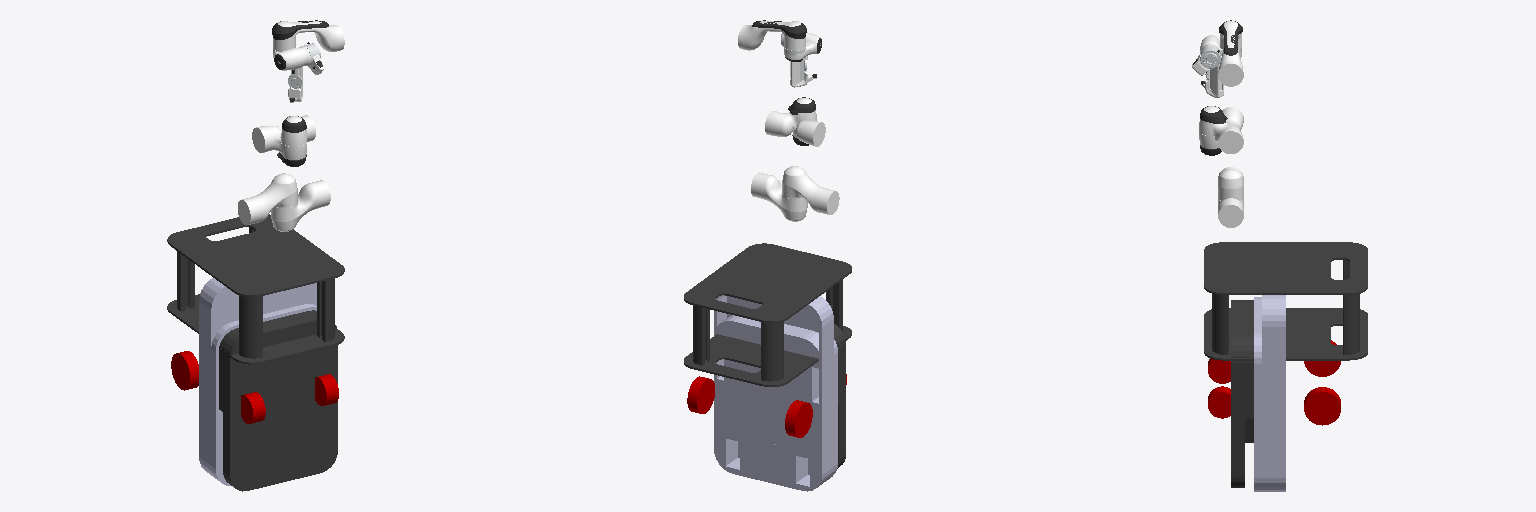
URDF robot description (albert):
<?xml version="1.0" encoding="utf-8"?>
<!-- =================================================================================== -->
<!-- |    This document was autogenerated by xacro from mmrobot.urdf.xacro             | -->
<!-- |    EDITING THIS FILE BY HAND IS NOT RECOMMENDED                                 | -->
<!-- =================================================================================== -->
<robot name="albert">
  <material name="Boxer_Black">
    <color rgba="0.1 0.1 0.1 1.0"/>
  </material>
  <material name="Boxer_Blue">
    <color rgba="0.0 0.0 0.8 1.0"/>
  </material>
  <material name="Boxer_Purple">
    <color rgba="0.6 0.0 0.6 1.0"/>
  </material>
  <material name="Boxer_Green">
    <color rgba="0.0 0.8 0.0 1.0"/>
  </material>
  <material name="Boxer_LimeGreen">
    <color rgba="0.3 0.8 0.3 1.0"/>
  </material>
  <material name="Boxer_Grey">
    <color rgba="0.5 0.5 0.5 1.0"/>
  </material>
  <material name="Boxer_DarkGrey">
    <color rgba="0.3 0.3 0.3 1.0"/>
  </material>
  <material name="Boxer_Red">
    <color rgba="0.8 0.0 0.0 1.0"/>
  </material>
  <material name="Boxer_Pink">
    <color rgba="0.8 0.4 0.8 1.0"/>
  </material>
  <material name="Boxer_White">
    <color rgba="1.0 1.0 1.0 1.0"/>
  </material>
  <material name="Boxer_Yellow">
    <color rgba="0.8 0.8 0.0 1.0"/>
  </material>
  <material name="Boxer_GreyTransparent">
    <color rgba="0.5 0.5 0.5 0.5"/>
  </material>
  <link name="base_link">
    <inertial>
      <origin rpy="0 0 0" xyz="0 0 0"/>
      <mass value="1"/>
      <inertia ixx="0.2" ixy="0" ixz="0" iyy="0.2" iyz="0" izz="0.2"/>
    </inertial>
  </link>
  <link name="chassis_link">
    <inertial>
      <origin rpy="0 0 0" xyz="0 0 0.07"/>
      <mass value="150"/>
      <inertia ixx="2.3" ixy="0" ixz="0" iyy="3.35" iyz="0.00" izz="1.22"/>
    </inertial>
    <visual>
      <origin rpy="1.5708 0 0" xyz="0 0 0"/>
      <geometry>
        <mesh filename="meshes/visual/chassis_link.dae"/>
      </geometry>
      <material name="">
        <color rgba="0.8 0.8 0.9 1"/>
      </material>
    </visual>
    <collision>
      <origin rpy="0 0 0" xyz="0 0 0"/>
      <geometry>
        <mesh filename="meshes/collision/chassis_link.STL"/>
      </geometry>
    </collision>
  </link>
  <link name="internal_link">
    <inertial>
      <origin rpy="0 0 0" xyz="0 0.19 -0.031"/>
      <mass value="20"/>
      <inertia ixx="1.19" ixy="0" ixz="0" iyy="1.82" iyz="0.0" izz="0.68"/>
    </inertial>
    <visual>
      <origin rpy="1.5708 0 0" xyz="0 0 0"/>
      <geometry>
        <mesh filename="meshes/visual/internal_link.dae"/>
      </geometry>
      <material name="Boxer_DarkGrey"/>
    </visual>
    <collision>
      <origin rpy="0 0 0" xyz="0 0 0"/>
      <geometry>
        <!-- Mesh is scaled down slightly in length, to mitigate collision with laser rays due to slow physics updates  -->
        <!-- (The z axis is scaled since the whole model is rotated at the joint, and collision model resolution isn't
      very smart.) -->
        <mesh filename="meshes/collision/internal_link.STL"/>
      </geometry>
    </collision>
  </link>
  <link name="lift_link">
    <inertial>
      <origin rpy="0 0 0" xyz="0 0.076 0"/>
      <mass value="10"/>
      <inertia ixx="0.47" ixy="0" ixz="0" iyy="0.74" iyz="0" izz="0.29"/>
    </inertial>
    <visual>
      <origin rpy="1.5708 0 0" xyz="0 0 0"/>
      <geometry>
        <mesh filename="meshes/visual/lift_link.dae"/>
      </geometry>
      <material name="">
        <color rgba="0.8 0.8 0.9 1"/>
      </material>
    </visual>
    <collision>
      <origin rpy="0 0 0" xyz="0 0 0"/>
      <geometry>
        <mesh filename="meshes/collision/lift_link.STL"/>
      </geometry>
    </collision>
  </link>
  <link name="rotacastor_right_link">
    <inertial>
      <origin rpy="0 0 0" xyz="0 0 0"/>
      <mass value="0.3"/>
      <inertia ixx="0.2" ixy="0" ixz="0" iyy="0.2" iyz="0" izz="0.2"/>
    </inertial>
    <visual>
      <origin rpy="0 1.5708 0" xyz="0 0 0"/>
      <geometry>
        <cylinder length="0.06" radius="0.0625"/>
      </geometry>
      <material name="Boxer_Red"/>
    </visual>
    <collision>
      <origin rpy="0 1.5708 0" xyz="0 0 0"/>
      <geometry>
        <cylinder length="0.001" radius="0.0625"/>
      </geometry>
    </collision>
  </link>
  <link name="rotacastor_left_link">
    <inertial>
      <origin rpy="0 0 0" xyz="0 0 0"/>
      <mass value="0.3"/>
      <inertia ixx="0.2" ixy="0" ixz="0" iyy="0.2" iyz="0" izz="0.2"/>
    </inertial>
    <visual>
      <origin rpy="0 1.5708 0" xyz="0 0 0"/>
      <geometry>
        <cylinder length="0.06" radius="0.0625"/>
      </geometry>
      <material name="Boxer_Red"/>
    </visual>
    <collision>
      <origin rpy="0 1.5708 0" xyz="0 0 0"/>
      <geometry>
        <cylinder length="0.001" radius="0.0625"/>
      </geometry>
    </collision>
  </link>
  <link name="wheel_right_link">
    <inertial>
      <origin rpy="0 0 0" xyz="0 0 0"/>
      <mass value="1"/>
      <inertia ixx="0.2" ixy="0" ixz="0" iyy="0.2" iyz="0" izz="0.2"/>
    </inertial>
    <visual>
      <origin rpy="0 1.5708 0" xyz="0 0 0"/>
      <geometry>
        <cylinder length="0.05" radius="0.080"/>
      </geometry>
      <material name="Boxer_Red"/>
    </visual>
    <collision>
      <origin rpy="0 1.5708 0" xyz="0 0 0"/>
      <geometry>
        <cylinder length="0.001" radius="0.080"/>
      </geometry>
    </collision>
  </link>
  <link name="wheel_left_link">
    <inertial>
      <origin rpy="0 0 0" xyz="0 0 0"/>
      <mass value="1"/>
      <inertia ixx="0.2" ixy="0" ixz="0" iyy="0.2" iyz="0" izz="0.2"/>
    </inertial>
    <visual>
      <origin rpy="0 1.5708 0" xyz="0 0 0"/>
      <geometry>
        <cylinder length="0.05" radius="0.080"/>
      </geometry>
      <material name="Boxer_Red"/>
    </visual>
    <collision>
      <origin rpy="0 1.5708 0" xyz="0 0 0"/>
      <geometry>
        <cylinder length="0.001" radius="0.080"/>
      </geometry>
    </collision>
  </link>
  <joint name="internal_joint" type="fixed">
    <origin rpy="1.5708 0 0" xyz="0 0 0"/>
    <parent link="chassis_link"/>
    <child link="internal_link"/>
    <axis xyz="0 0 0"/>
  </joint>
  <joint name="lift_joint" type="fixed">
    <origin rpy="1.5708 0 0" xyz="0 0 0.177"/>
    <parent link="chassis_link"/>
    <child link="lift_link"/>
    <axis xyz="0 1 0"/>
    <limit effort="10000.0" lower="0" upper="0.078" velocity="0.02"/>
    <dynamics damping="100.0" friction="100"/>
  </joint>
  <joint name="base_chassis_joint" type="fixed">
    <origin rpy="0 0 0" xyz="0.0 0 0"/>
    <parent link="base_link"/>
    <child link="chassis_link"/>
  </joint>
  <joint name="rotacastor_right_joint" type="fixed">
    <origin rpy="0 0 0" xyz="-0.177 -0.274 0.043"/>
    <parent link="chassis_link"/>
    <child link="rotacastor_right_link"/>
    <axis xyz="1 0 0"/>
    <dynamics damping="1.0"/>
  </joint>
  <joint name="rotacastor_left_joint" type="fixed">
    <origin rpy="0 0 0" xyz="0.177 -0.274 0.043"/>
    <parent link="chassis_link"/>
    <child link="rotacastor_left_link"/>
    <axis xyz="1 0 0"/>
    <dynamics damping="1.0"/>
  </joint>
  <joint name="wheel_right_joint" type="continuous">
    <origin rpy="0 0 0" xyz="-0.247 0.157 0.058"/>
    <parent link="chassis_link"/>
    <child link="wheel_right_link"/>
    <axis xyz="1 0 0"/>
    <limit effort="10000" velocity="1000"/>
    <dynamics damping="1.0"/>
  </joint>
  <joint name="wheel_left_joint" type="continuous">
    <origin rpy="0 0 0" xyz="0.247 0.157 0.058"/>
    <parent link="chassis_link"/>
    <child link="wheel_left_link"/>
    <axis xyz="1 0 0"/>
    <limit effort="10000" velocity="1000"/>
    <dynamics damping="1.0"/>
  </joint>
  <link name="top_mount_bottom">
    <inertial>
      <origin rpy="0 0 0" xyz="0 0 0"/>
      <mass value="8"/>
      <inertia ixx="0.50" ixy="0" ixz="0" iyy="0.50" iyz="0" izz="1.00"/>
    </inertial>
    <visual>
      <origin rpy="0 0 0" xyz="0 0 0"/>
      <geometry>
        <mesh filename="meshes/collision/top_plate.stl"/>
      </geometry>
      <material name="Boxer_DarkGrey"/>
    </visual>
    <collision>
      <origin rpy="0 0 0" xyz="0 0 0"/>
      <geometry>
        <mesh filename="meshes/collision/top_plate_collision.stl"/>
      </geometry>
    </collision>
  </link>
  <link name="extrusion1">
    <inertial>
      <origin rpy="0 0 0" xyz="0 0 0"/>
      <mass value="1"/>
      <inertia ixx="0.50" ixy="0" ixz="0" iyy="0.50" iyz="0" izz="0.20"/>
    </inertial>
    <visual>
      <origin rpy="0 0 0" xyz="0 0 0"/>
      <geometry>
        <mesh filename="meshes/collision/extrusion.stl"/>
      </geometry>
      <material name="Boxer_DarkGrey"/>
    </visual>
    <collision>
      <origin rpy="0 0 0" xyz="0 0 0"/>
      <geometry>
        <mesh filename="meshes/collision/extrusion.stl"/>
      </geometry>
    </collision>
  </link>
  <link name="extrusion2">
    <inertial>
      <origin rpy="0 0 0" xyz="0 0 0"/>
      <mass value="1"/>
      <inertia ixx="0.50" ixy="0" ixz="0" iyy="0.50" iyz="0" izz="0.20"/>
    </inertial>
    <visual>
      <origin rpy="0 0 0" xyz="0 0 0"/>
      <geometry>
        <mesh filename="meshes/collision/extrusion.stl"/>
      </geometry>
      <material name="Boxer_DarkGrey"/>
    </visual>
    <collision>
      <origin rpy="0 0 0" xyz="0 0 0"/>
      <geometry>
        <mesh filename="meshes/collision/extrusion.stl"/>
      </geometry>
    </collision>
  </link>
  <link name="extrusion3">
    <inertial>
      <origin rpy="0 0 0" xyz="0 0 0"/>
      <mass value="1"/>
      <inertia ixx="0.50" ixy="0" ixz="0" iyy="0.50" iyz="0" izz="0.20"/>
    </inertial>
    <visual>
      <origin rpy="0 0 0" xyz="0 0 0"/>
      <geometry>
        <mesh filename="meshes/collision/extrusion.stl"/>
      </geometry>
      <material name="Boxer_DarkGrey"/>
    </visual>
    <collision>
      <origin rpy="0 0 0" xyz="0 0 0"/>
      <geometry>
        <mesh filename="meshes/collision/extrusion.stl"/>
      </geometry>
    </collision>
  </link>
  <link name="extrusion4">
    <inertial>
      <origin rpy="0 0 0" xyz="0 0 0"/>
      <mass value="1"/>
      <inertia ixx="0.50" ixy="0" ixz="0" iyy="0.50" iyz="0" izz="0.20"/>
    </inertial>
    <visual>
      <origin rpy="0 0 0" xyz="0 0 0"/>
      <geometry>
        <mesh filename="meshes/collision/extrusion.stl"/>
      </geometry>
      <material name="Boxer_DarkGrey"/>
    </visual>
    <collision>
      <origin rpy="0 0 0" xyz="0 0 0"/>
      <geometry>
        <mesh filename="meshes/collision/extrusion.stl"/>
      </geometry>
    </collision>
  </link>
  <joint name="top_mount_bottom_joint" type="fixed">
    <origin rpy="0 -1.5707 -1.5707" xyz="0 0.1125 0"/>
    <parent link="lift_link"/>
    <child link="top_mount_bottom"/>
  </joint>
  <joint name="extrusion1_joint" type="fixed">
    <origin rpy="0 0 0" xyz="-0.2785 0.1835 0"/>
    <parent link="top_mount_bottom"/>
    <child link="extrusion1"/>
  </joint>
  <joint name="extrusion2_joint" type="fixed">
    <origin rpy="0 0 -1.5707" xyz="0.2785 0.1835 0"/>
    <parent link="top_mount_bottom"/>
    <child link="extrusion2"/>
  </joint>
  <joint name="extrusion3_joint" type="fixed">
    <origin rpy="0 0 3.1414" xyz="0.2785 -0.1835 0"/>
    <parent link="top_mount_bottom"/>
    <child link="extrusion3"/>
  </joint>
  <joint name="extrusion4_joint" type="fixed">
    <origin rpy="0 0 1.5707" xyz="-0.2785 -0.1835 0"/>
    <parent link="top_mount_bottom"/>
    <child link="extrusion4"/>
  </joint>
  <link name="top_mount">
    <inertial>
      <origin rpy="0 0 0" xyz="0 0 0"/>
      <mass value="8"/>
      <inertia ixx="0.50" ixy="0" ixz="0" iyy="0.50" iyz="0" izz="1.00"/>
    </inertial>
    <visual>
      <origin rpy="0 0 0" xyz="0 0 0"/>
      <geometry>
        <mesh filename="meshes/collision/top_plate.stl"/>
      </geometry>
      <material name="Boxer_DarkGrey"/>
    </visual>
    <collision>
      <origin rpy="0 0 0" xyz="0 0 0"/>
      <geometry>
        <mesh filename="meshes/collision/top_plate_collision.stl"/>
      </geometry>
    </collision>
  </link>
  <!-- 0.27 in z direction because extrusion is 0.30, and plate is 0.1 -->
  <joint name="top_mount_joint" type="fixed">
    <origin rpy="0 0 0" xyz="0.2785 -0.1835 0.31"/>
    <parent link="extrusion1"/>
    <child link="top_mount"/>
  </joint>
  <!-- Base link with no geometry or inertia, because KDL needs it
to be that way. -->
  <joint name="mmrobot_joint_top_mount" type="fixed">
    <parent link="top_mount"/>
    <child link="mmrobot_link0"/>
    <origin rpy="0 0 0" xyz="0.237 0 0"/>
  </joint>
  <link name="mmrobot_link0">
    <visual>
      <origin rpy="1.5708 0 0" xyz="0.0 0 0"/>
      <geometry>
        <mesh filename="meshes/visual/link0.dae"/>
      </geometry>
    </visual>
    <collision>
      <origin rpy="0 0 0" xyz="0.0 0 0"/>
      <geometry>
        <mesh filename="meshes/collision/link0.stl"/>
      </geometry>
    </collision>
    <inertial>
      <origin rpy="0 0 0" xyz="0 0 0"/>
      <mass value="3.06"/>
      <inertia ixx="0.3" ixy="0.0" ixz="0.0" iyy="0.3" iyz="0.0" izz="0.3"/>
    </inertial>
  </link>
  <link name="mmrobot_link1">
    <visual>
      <origin rpy="1.5708 0 0" xyz="0.0 0 0"/>
      <geometry>
        <mesh filename="meshes/visual/link1.dae"/>
      </geometry>
    </visual>
    <collision>
      <origin rpy="0 0 0" xyz="0.0 0 0"/>
      <geometry>
        <mesh filename="meshes/collision/link1.stl"/>
      </geometry>
    </collision>
    <inertial>
      <origin rpy="0 0 0" xyz="0 0 0"/>
      <mass value="2.34"/>
      <inertia ixx="0.3" ixy="0.0" ixz="0.0" iyy="0.3" iyz="0.0" izz="0.3"/>
    </inertial>
  </link>
  <joint name="mmrobot_joint1" type="revolute">
    <safety_controller k_position="100.0" k_velocity="40.0" soft_lower_limit="-2.8973" soft_upper_limit="2.8973"/>
    <origin rpy="0 0 0" xyz="0 0 0.333"/>
    <parent link="mmrobot_link0"/>
    <child link="mmrobot_link1"/>
    <axis xyz="0 0 1"/>
    <limit effort="87" lower="-2.8973" upper="2.8973" velocity="2.1750"/>
    <dynamics damping="1.0"/>
  </joint>
  <link name="mmrobot_link2">
    <visual>
      <origin rpy="1.5708 0 0" xyz="0.0 0 0"/>
      <geometry>
        <mesh filename="meshes/visual/link2.dae"/>
      </geometry>
    </visual>
    <collision>
      <origin rpy="0 0 0" xyz="0.0 0 0"/>
      <geometry>
        <mesh filename="meshes/collision/link2.stl"/>
      </geometry>
    </collision>
    <inertial>
      <origin rpy="0 0 0" xyz="0 0 0"/>
      <mass value="2.36"/>
      <inertia ixx="0.3" ixy="0.0" ixz="0.0" iyy="0.3" iyz="0.0" izz="0.3"/>
    </inertial>
  </link>
  <joint name="mmrobot_joint2" type="revolute">
    <safety_controller k_position="100.0" k_velocity="40.0" soft_lower_limit="-1.7628" soft_upper_limit="1.7628"/>
    <origin rpy="-1.57079632679 0 0" xyz="0 0 0"/>
    <parent link="mmrobot_link1"/>
    <child link="mmrobot_link2"/>
    <axis xyz="0 0 1"/>
    <limit effort="87" lower="-1.7628" upper="1.7628" velocity="2.1750"/>
    <dynamics damping="1.0"/>
  </joint>
  <link name="mmrobot_link3">
    <visual>
      <origin rpy="1.5708 0 0" xyz="0.0 0 0"/>
      <geometry>
        <mesh filename="meshes/visual/link3.dae"/>
      </geometry>
    </visual>
    <collision>
      <origin rpy="0 0 0" xyz="0.0 0 0"/>
      <geometry>
        <mesh filename="meshes/collision/link3.stl"/>
      </geometry>
    </collision>
    <inertial>
      <origin rpy="0 0 0" xyz="0 0 0"/>
      <mass value="2.38"/>
      <inertia ixx="0.3" ixy="0.0" ixz="0.0" iyy="0.3" iyz="0.0" izz="0.3"/>
    </inertial>
  </link>
  <joint name="mmrobot_joint3" type="revolute">
    <safety_controller k_position="100.0" k_velocity="40.0" soft_lower_limit="-2.8973" soft_upper_limit="2.8973"/>
    <origin rpy="1.57079632679 0 0" xyz="0 -0.316 0"/>
    <parent link="mmrobot_link2"/>
    <child link="mmrobot_link3"/>
    <axis xyz="0 0 1"/>
    <limit effort="87" lower="-2.8973" upper="2.8973" velocity="2.1750"/>
    <dynamics damping="1.0"/>
  </joint>
  <link name="mmrobot_link4">
    <visual>
      <origin rpy="1.5708 0 0" xyz="0.0 0 0"/>
      <geometry>
        <mesh filename="meshes/visual/link4.dae"/>
      </geometry>
    </visual>
    <collision>
      <origin rpy="0 0 0" xyz="0.0 0 0"/>
      <geometry>
        <mesh filename="meshes/collision/link4.stl"/>
      </geometry>
    </collision>
    <inertial>
      <origin rpy="0 0 0" xyz="0 0 0"/>
      <mass value="2.43"/>
      <inertia ixx="0.3" ixy="0.0" ixz="0.0" iyy="0.3" iyz="0.0" izz="0.3"/>
    </inertial>
  </link>
  <joint name="mmrobot_joint4" type="revolute">
    <safety_controller k_position="100.0" k_velocity="40.0" soft_lower_limit="-1.50100" soft_upper_limit="1.500996"/>
    <origin rpy="1.57079632679 0 0" xyz="0.0825 0 0"/>
    <parent link="mmrobot_link3"/>
    <child link="mmrobot_link4"/>
    <axis xyz="0 0 1"/>
    <limit effort="87" lower="-3.0718" upper="0.0698" velocity="2.1750"/>
    <dynamics damping="1.0"/>
  </joint>
  <link name="mmrobot_link5">
    <visual>
      <origin rpy="1.5708 0 0" xyz="0.0 0 0"/>
      <geometry>
        <mesh filename="meshes/visual/link5.dae"/>
      </geometry>
    </visual>
    <collision>
      <origin rpy="0 0 0" xyz="0.0 0 0"/>
      <geometry>
        <mesh filename="meshes/collision/link5.stl"/>
      </geometry>
    </collision>
    <inertial>
      <origin rpy="0 0 0" xyz="0 0 0"/>
      <mass value="3.5"/>
      <inertia ixx="0.3" ixy="0.0" ixz="0.0" iyy="0.3" iyz="0.0" izz="0.3"/>
    </inertial>
  </link>
  <joint name="mmrobot_joint5" type="revolute">
    <safety_controller k_position="100.0" k_velocity="40.0" soft_lower_limit="-2.8973" soft_upper_limit="2.8973"/>
    <origin rpy="-1.57079632679 0 0" xyz="-0.0825 0.384 0"/>
    <parent link="mmrobot_link4"/>
    <child link="mmrobot_link5"/>
    <axis xyz="0 0 1"/>
    <limit effort="12" lower="-2.8973" upper="2.8973" velocity="2.6100"/>
    <dynamics damping="1.0"/>
  </joint>
  <link name="mmrobot_link6">
    <visual>
      <origin rpy="1.5708 0 0" xyz="0.0 0 0"/>
      <geometry>
        <mesh filename="meshes/visual/link6.dae"/>
      </geometry>
    </visual>
    <collision>
      <origin rpy="0 0 0" xyz="0.0 0 0"/>
      <geometry>
        <mesh filename="meshes/collision/link6.stl"/>
      </geometry>
    </collision>
    <inertial>
      <origin rpy="0 0 0" xyz="0 0 0"/>
      <mass value="1.47"/>
      <inertia ixx="0.3" ixy="0.0" ixz="0.0" iyy="0.3" iyz="0.0" izz="0.3"/>
    </inertial>
  </link>
  <joint name="mmrobot_joint6" type="revolute">
    <safety_controller k_position="100.0" k_velocity="40.0" soft_lower_limit="-1.58830" soft_upper_limit="2.1817"/>
    <origin rpy="1.57079632679 0 0" xyz="0 0 0"/>
    <parent link="mmrobot_link5"/>
    <child link="mmrobot_link6"/>
    <axis xyz="0 0 1"/>
    <limit effort="12" lower="-0.0175" upper="3.7525" velocity="2.6100"/>
    <dynamics damping="1.0"/>
  </joint>
  <link name="mmrobot_link7">
    <visual>
      <origin rpy="1.5708 0 0" xyz="0.0 0 0"/>
      <geometry>
        <mesh filename="meshes/visual/link7.dae"/>
      </geometry>
    </visual>
    <collision>
      <origin rpy="0 0 0" xyz="0.0 0 0"/>
      <geometry>
        <mesh filename="meshes/collision/link7.stl"/>
      </geometry>
    </collision>
    <inertial>
      <origin rpy="0 0 0" xyz="0 0 0"/>
      <mass value="0.45"/>
      <inertia ixx="0.3" ixy="0.0" ixz="0.0" iyy="0.3" iyz="0.0" izz="0.3"/>
    </inertial>
  </link>
  <joint name="mmrobot_joint7" type="revolute">
    <safety_controller k_position="100.0" k_velocity="40.0" soft_lower_limit="-2.8973" soft_upper_limit="2.8973"/>
    <origin rpy="1.57079632679 0 0" xyz="0.088 0 0"/>
    <parent link="mmrobot_link6"/>
    <child link="mmrobot_link7"/>
    <axis xyz="0 0 1"/>
    <limit effort="12" lower="-2.8973" upper="2.8973" velocity="2.6100"/>
    <dynamics damping="1.0"/>
  </joint>
  <link name="mmrobot_link8">
    <inertial>
      <origin rpy="0 0 0" xyz="0 0 0"/>
      <mass value="0.0"/>
      <inertia ixx="0.3" ixy="0.0" ixz="0.0" iyy="0.3" iyz="0.0" izz="0.3"/>
    </inertial>
  </link>
  <joint name="mmrobot_joint8" type="fixed">
    <origin rpy="0 0 0" xyz="0 0 0.107"/>
    <parent link="mmrobot_link7"/>
    <child link="mmrobot_link8"/>
    <axis xyz="0 0 0"/>
  </joint>
  <joint name="mmrobot_hand_joint" type="fixed">
    <parent link="mmrobot_link8"/>
    <child link="mmrobot_hand"/>
    <origin rpy="0 0 -0.785398163397" xyz="0 0 0"/>
  </joint>
  <link name="mmrobot_hand">
    <visual>
      <origin rpy="1.5708 0 0" xyz="0.0 0 0"/>
      <geometry>
        <mesh filename="meshes/visual/hand.dae"/>
      </geometry>
    </visual>
    <collision>
      <origin rpy="0 0 0" xyz="0.0 0 0"/>
      <geometry>
        <mesh filename="meshes/collision/hand.stl"/>
      </geometry>
    </collision>
    <inertial>
      <origin rpy="0 0 0" xyz="0 0 0"/>
      <mass value="0.68"/>
      <inertia ixx="0.1" ixy="0.0" ixz="0.0" iyy="0.1" iyz="0.0" izz="0.1"/>
    </inertial>
  </link>
  <link name="mmrobot_leftfinger">
    <visual>
      <origin rpy="1.5708 0 0" xyz="0.0 0 0"/>
      <geometry>
        <mesh filename="meshes/visual/finger.dae"/>
      </geometry>
    </visual>
    <collision>
      <origin rpy="0 0 0" xyz="0.0 0 0"/>
      <geometry>
        <mesh filename="meshes/collision/finger.stl"/>
      </geometry>
    </collision>
    <inertial>
      <origin rpy="0 0 0" xyz="0 0 0"/>
      <mass value="0.01"/>
      <inertia ixx="0.1" ixy="0.0" ixz="0.0" iyy="0.1" iyz="0.0" izz="0.1"/>
    </inertial>
  </link>
  <link name="mmrobot_rightfinger">
    <visual>
      <origin rpy="1.5708 0 3.14159265359" xyz="0 0 0"/>
      <geometry>
        <mesh filename="meshes/visual/finger.dae"/>
      </geometry>
    </visual>
    <collision>
      <origin rpy="0 0 3.14159265359" xyz="0 0 0"/>
      <geometry>
        <mesh filename="meshes/collision/finger.stl"/>
      </geometry>
    </collision>
    <inertial>
      <origin rpy="0 0 0" xyz="0 0 0"/>
      <mass value="0.01"/>
      <inertia ixx="0.1" ixy="0.0" ixz="0.0" iyy="0.1" iyz="0.0" izz="0.1"/>
    </inertial>
  </link>
  <joint name="mmrobot_finger_joint1" type="prismatic">
    <parent link="mmrobot_hand"/>
    <child link="mmrobot_leftfinger"/>
    <origin rpy="0 0 0" xyz="0 0 0.0584"/>
    <axis xyz="0 1 0"/>
    <limit effort="20" lower="0.0" upper="0.04" velocity="0.2"/>
  </joint>
  <joint name="mmrobot_finger_joint2" type="prismatic">
    <parent link="mmrobot_hand"/>
    <child link="mmrobot_rightfinger"/>
    <origin rpy="0 0 0" xyz="0 0 0.0584"/>
    <axis xyz="0 -1 0"/>
    <limit effort="20" lower="0.0" upper="0.04" velocity="0.2"/>
  </joint>
  <!-- Link0 -->
</robot>

--- Facts derived from the render (not from the file) ---
3 views of the same robot in one strip: view 1: azimuth 30°, elevation 25°; view 2: azimuth 150°, elevation 25°; view 3: azimuth 270°, elevation 25° (orthographic).
Robot: albert — 26 links, 25 joints (7 revolute, 2 continuous, 2 prismatic, 14 fixed); root link base_link; default pose: all joints at 0.
Links seen in each view (by area): view 1: internal_link, top_mount, chassis_link, lift_link, top_mount_bottom, mmrobot_link2, mmrobot_link5, extrusion3, mmrobot_link1, mmrobot_link4, extrusion2, extrusion4 (+5 smaller); view 2: chassis_link, top_mount, lift_link, top_mount_bottom, mmrobot_link2, mmrobot_link5, extrusion4, mmrobot_link1, mmrobot_link3, internal_link, extrusion1, wheel_right_link (+4 smaller); view 3: top_mount, top_mount_bottom, chassis_link, internal_link, lift_link, mmrobot_link5, mmrobot_link3, wheel_left_link, extrusion1, extrusion2, mmrobot_link2, mmrobot_link4 (+3 smaller).
Link boxes in pixels (x1,y1,x2,y2): internal_link: [219, 310, 337, 491]; top_mount: [167, 214, 344, 296]; chassis_link: [199, 304, 316, 485]; lift_link: [199, 278, 316, 405]; top_mount_bottom: [167, 294, 344, 364]; mmrobot_link2: [238, 173, 297, 225]; mmrobot_link5: [272, 20, 344, 51]; extrusion3: [239, 296, 262, 358]; mmrobot_link1: [271, 180, 330, 231]; mmrobot_link4: [252, 126, 306, 166]; extrusion2: [317, 279, 334, 341]; extrusion4: [177, 251, 194, 310]; chassis_link: [714, 315, 837, 491]; top_mount: [684, 243, 851, 322]; lift_link: [714, 295, 833, 454]; top_mount_bottom: [684, 326, 851, 386]; mmrobot_link2: [782, 166, 839, 214]; mmrobot_link5: [738, 20, 806, 50]; extrusion4: [761, 322, 783, 381]; mmrobot_link1: [751, 172, 807, 221]; mmrobot_link3: [765, 97, 816, 136]; internal_link: [834, 324, 845, 468]; extrusion1: [693, 305, 709, 365]; wheel_right_link: [785, 400, 812, 437]; top_mount: [1204, 242, 1367, 294]; top_mount_bottom: [1204, 308, 1367, 360]; chassis_link: [1254, 297, 1285, 491]; internal_link: [1231, 300, 1253, 487]; lift_link: [1262, 295, 1285, 440]; mmrobot_link5: [1218, 20, 1243, 86]; mmrobot_link3: [1199, 106, 1243, 153]; wheel_left_link: [1304, 387, 1340, 425]; extrusion1: [1343, 294, 1359, 354]; extrusion2: [1212, 294, 1228, 354]; mmrobot_link2: [1218, 167, 1243, 200]; mmrobot_link4: [1199, 107, 1243, 155].
Size in the robot's own frame: 0.55 by 0.7599 by 2.13 metres.
19 mesh visuals loaded from 15 distinct referenced files (2 binary STL, 12 Collada DAE); not drawn: 1 (reference not matched to a file when rendering).
